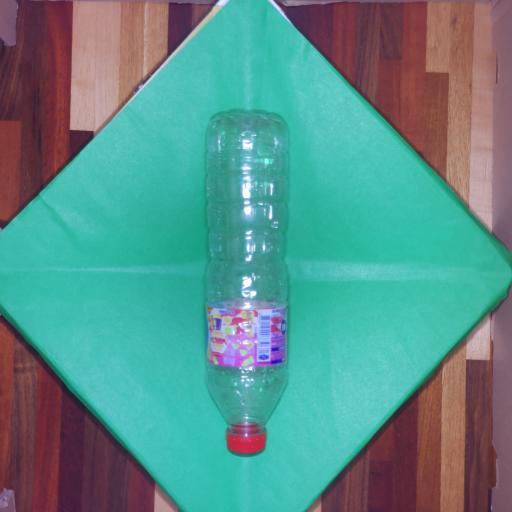bottle: (200, 102, 295, 458)
